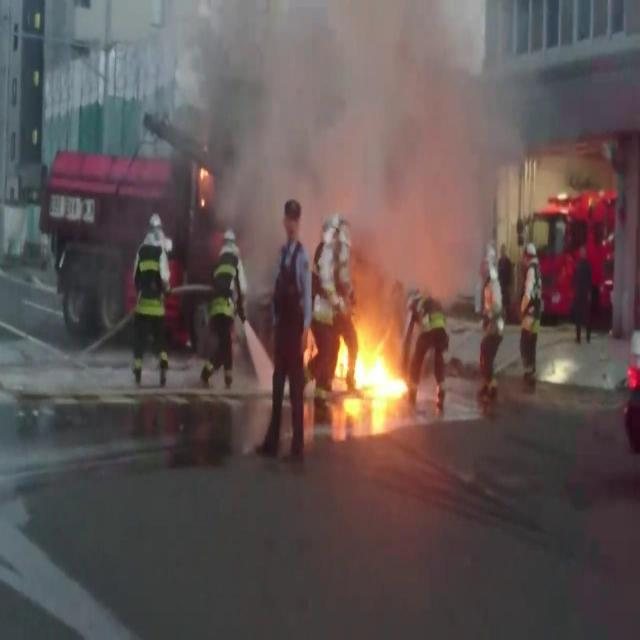fire: (333, 319, 412, 397)
